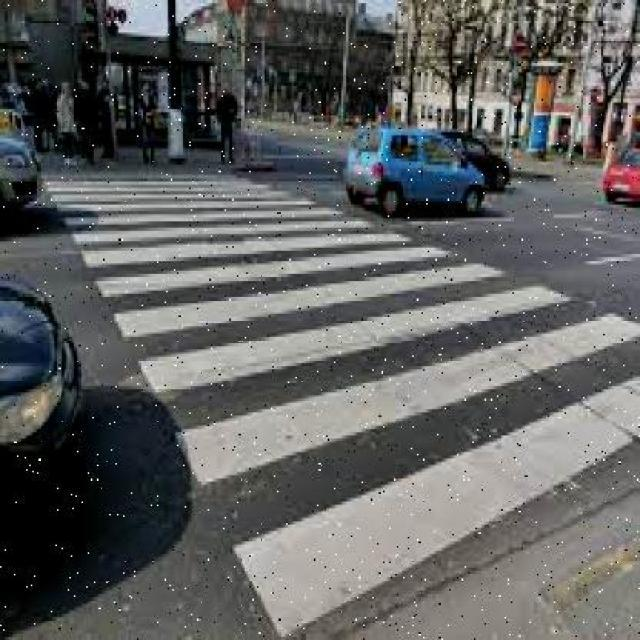crosswalk: (44, 176, 640, 637)
